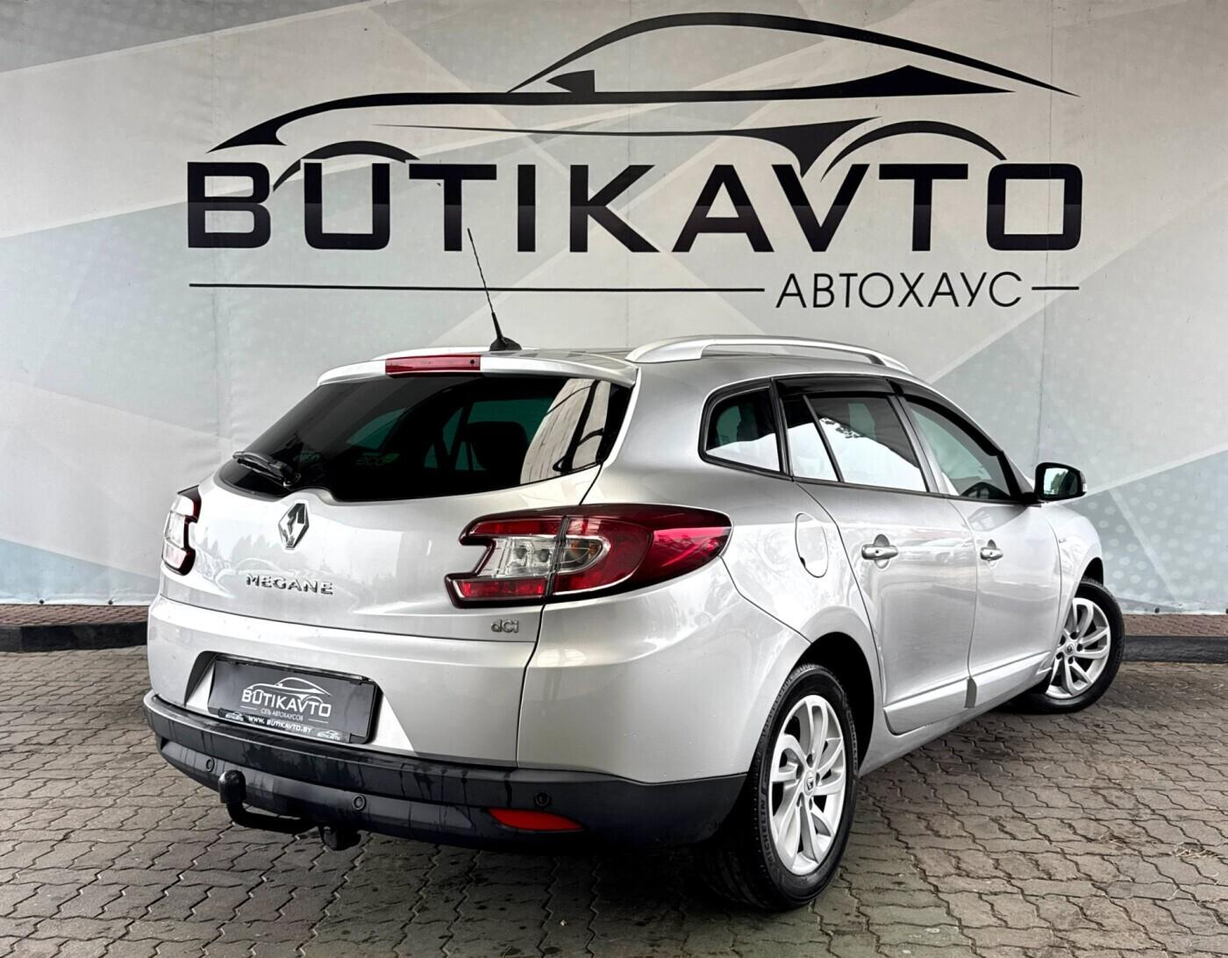Megane_2014-2016: (133, 322, 1135, 901)
